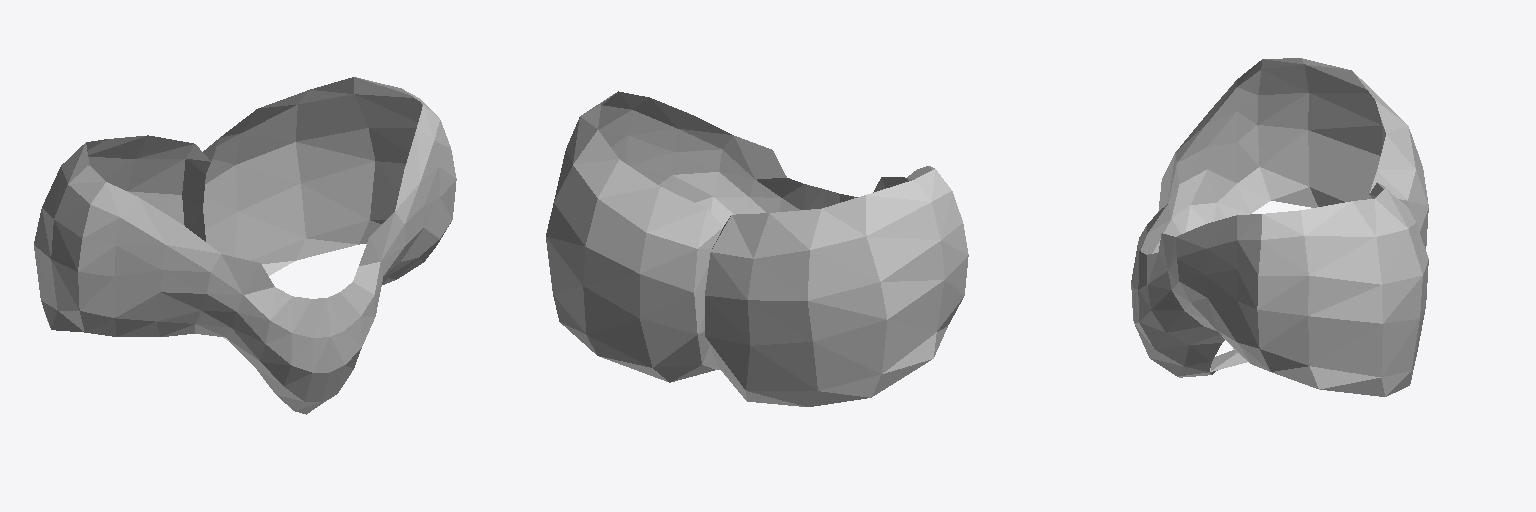
File: Body_Lower.obj
The picture shows the model from 3 angles: view 1: azimuth 30°, elevation 25°; view 2: azimuth 150°, elevation 25°; view 3: azimuth 270°, elevation 25°; orthographic projection.
Visible parts, largest first — view 1: Body_Lower_Cube.034; view 2: Body_Lower_Cube.034; view 3: Body_Lower_Cube.034.
Part boxes in pixels (left/top/right/bottom): Body_Lower_Cube.034: left=34, top=77, right=456, bottom=414; Body_Lower_Cube.034: left=546, top=91, right=968, bottom=406; Body_Lower_Cube.034: left=1131, top=58, right=1428, bottom=396.
Size of the model in its own units: 7.53 by 4.59 by 5.09.